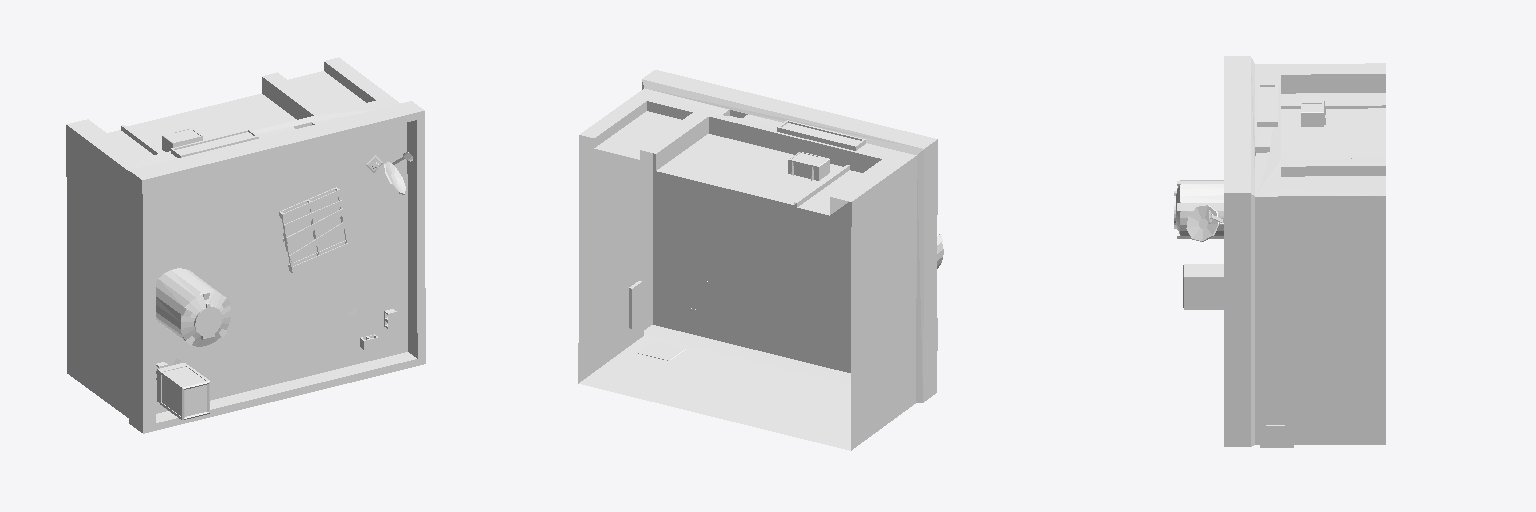
Rendered from building1.obj.
The picture shows the model from 3 angles: view 1: azimuth 30°, elevation 25°; view 2: azimuth 150°, elevation 25°; view 3: azimuth 270°, elevation 25°; orthographic projection.
Parts seen in each view (by area): view 1: Building1_005; view 2: Building1_005; view 3: Building1_005.
Boxes of the visible parts, box(x1,y1,x2,y2) form: Building1_005: box(66, 57, 425, 433); Building1_005: box(578, 70, 943, 450); Building1_005: box(1174, 56, 1385, 447).
Size of the model in its own units: 7.77 by 6.9 by 5.05.